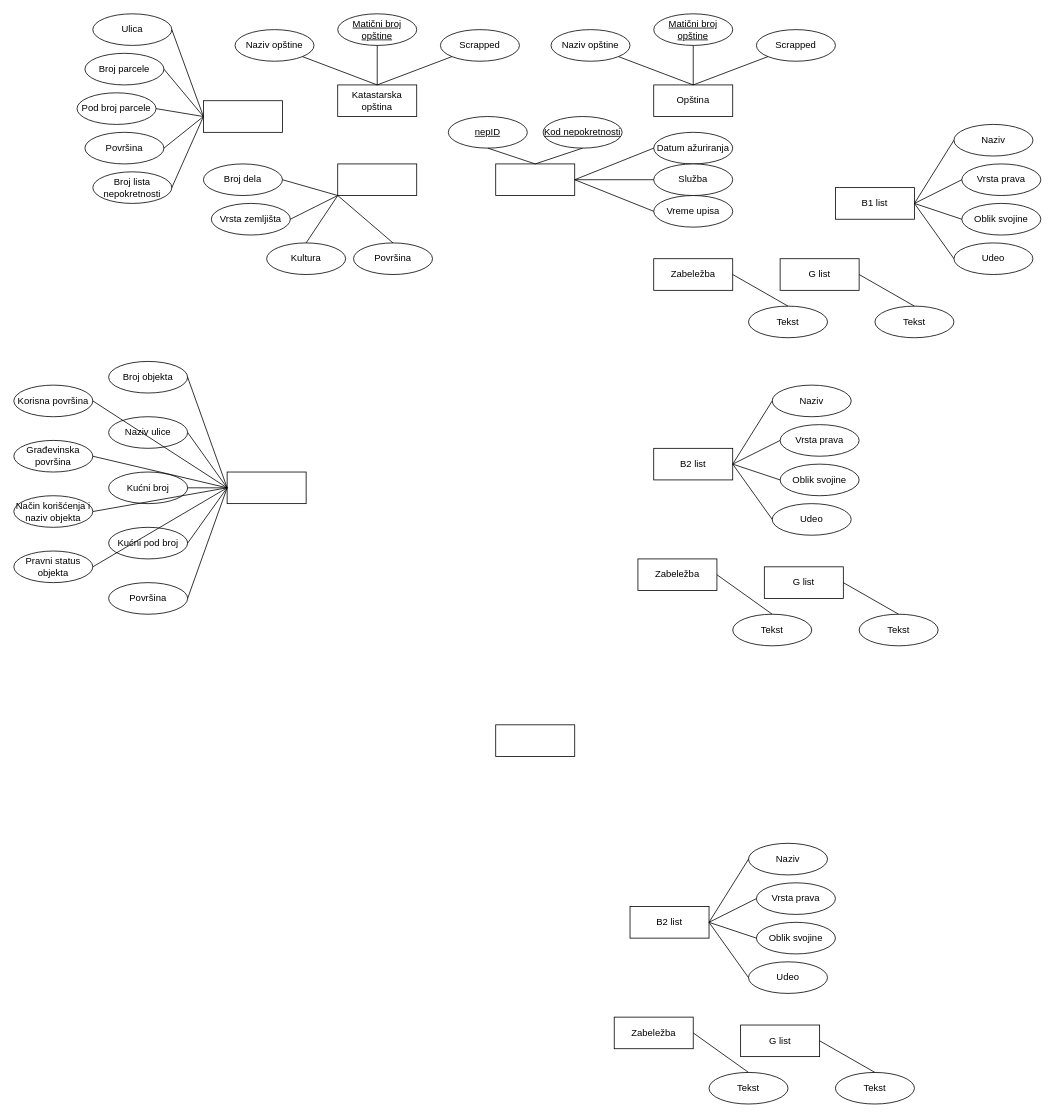
The diagram is 1055 pixels wide and 1118 high, and some of its shapes have lost their labels. Here are the shapes that lost their labels. From the top down, the box of each, then its label:
(203, 100, 282, 132): A list
(337, 163, 417, 196): Podaci o delu parcele
(495, 163, 575, 196): Parcela
(226, 471, 306, 504): Objekti na parceli
(495, 724, 575, 756): Posebni delovi opjekta
